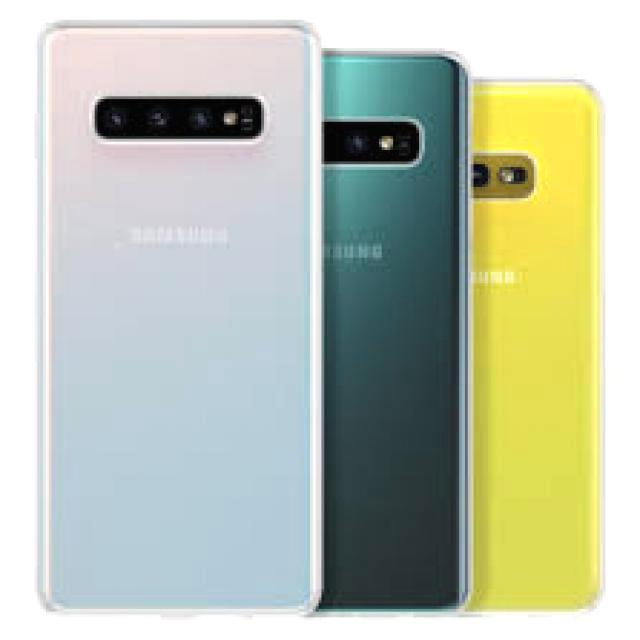lens: (85, 94, 268, 142), (324, 117, 430, 168), (476, 151, 540, 204)
phone: (32, 16, 326, 620), (319, 44, 475, 619), (467, 69, 606, 619)
